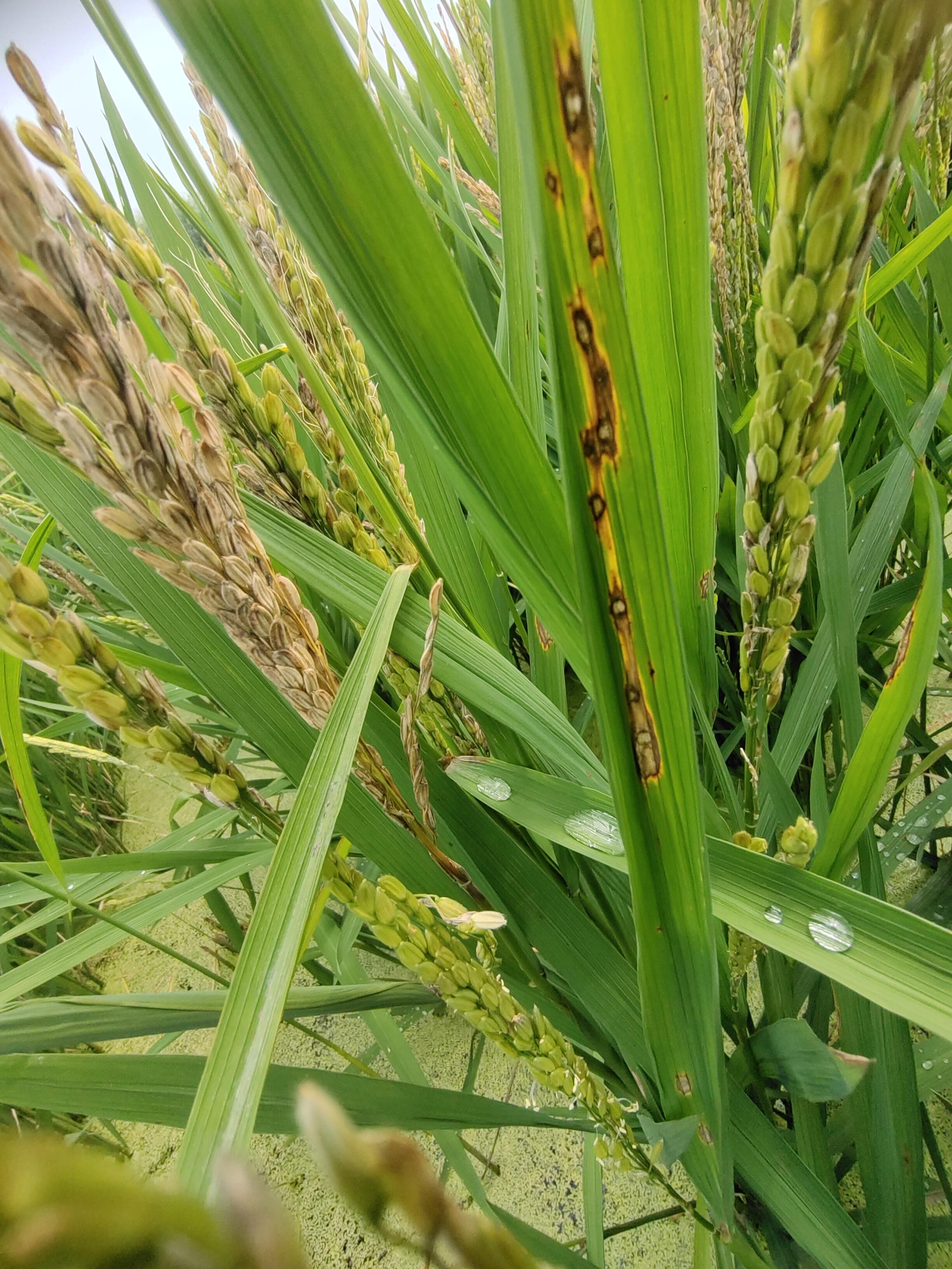LEAF: (500, 0, 733, 1244)
LEAF BLAST: (562, 284, 665, 789), (550, 20, 610, 278), (544, 163, 567, 213), (674, 1071, 691, 1096), (697, 1121, 713, 1147), (648, 661, 658, 682)
